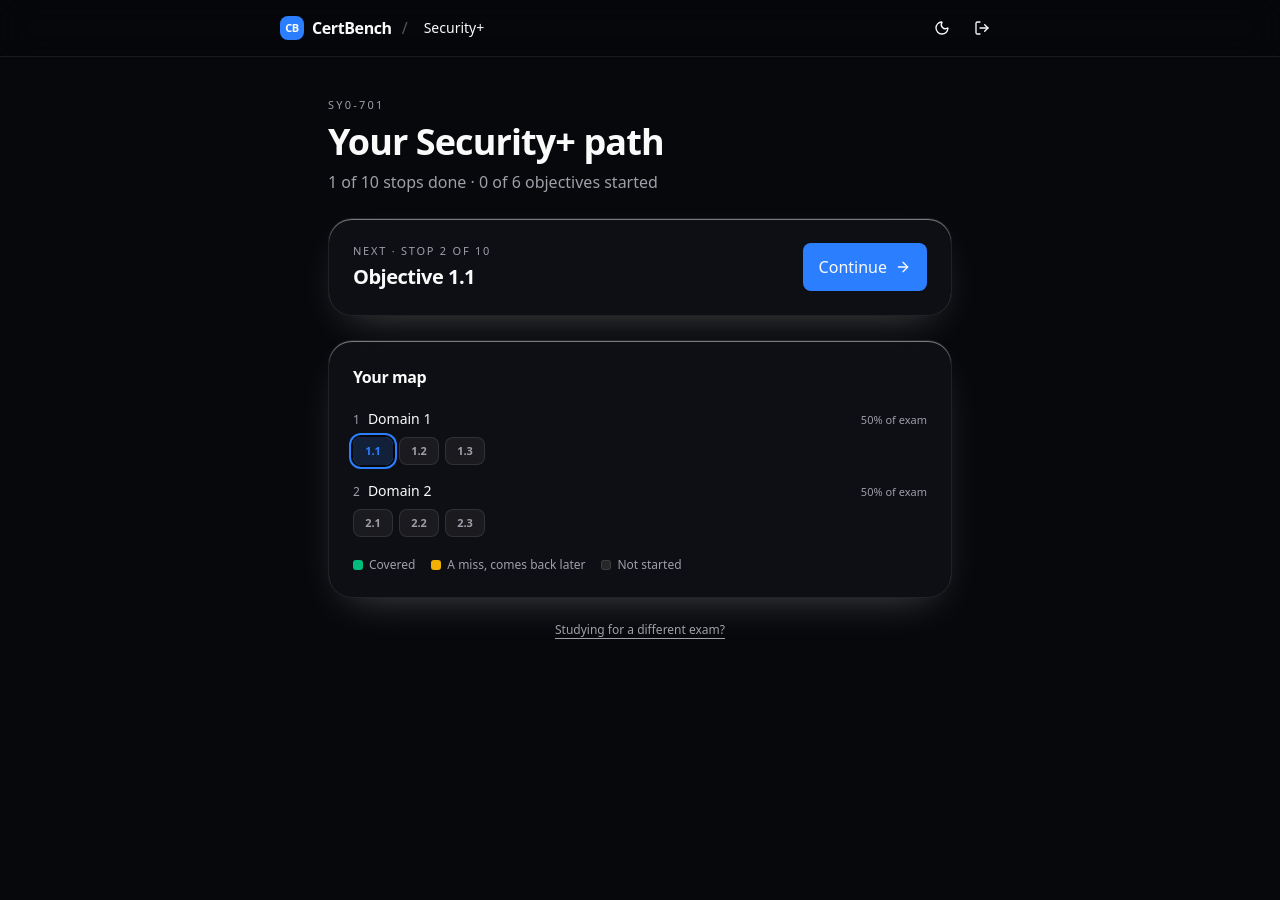
it: a signed-in learner › goes back to the map from the exam name in the header
Click the button "Continue" at [865, 267], box [803,243,927,291]
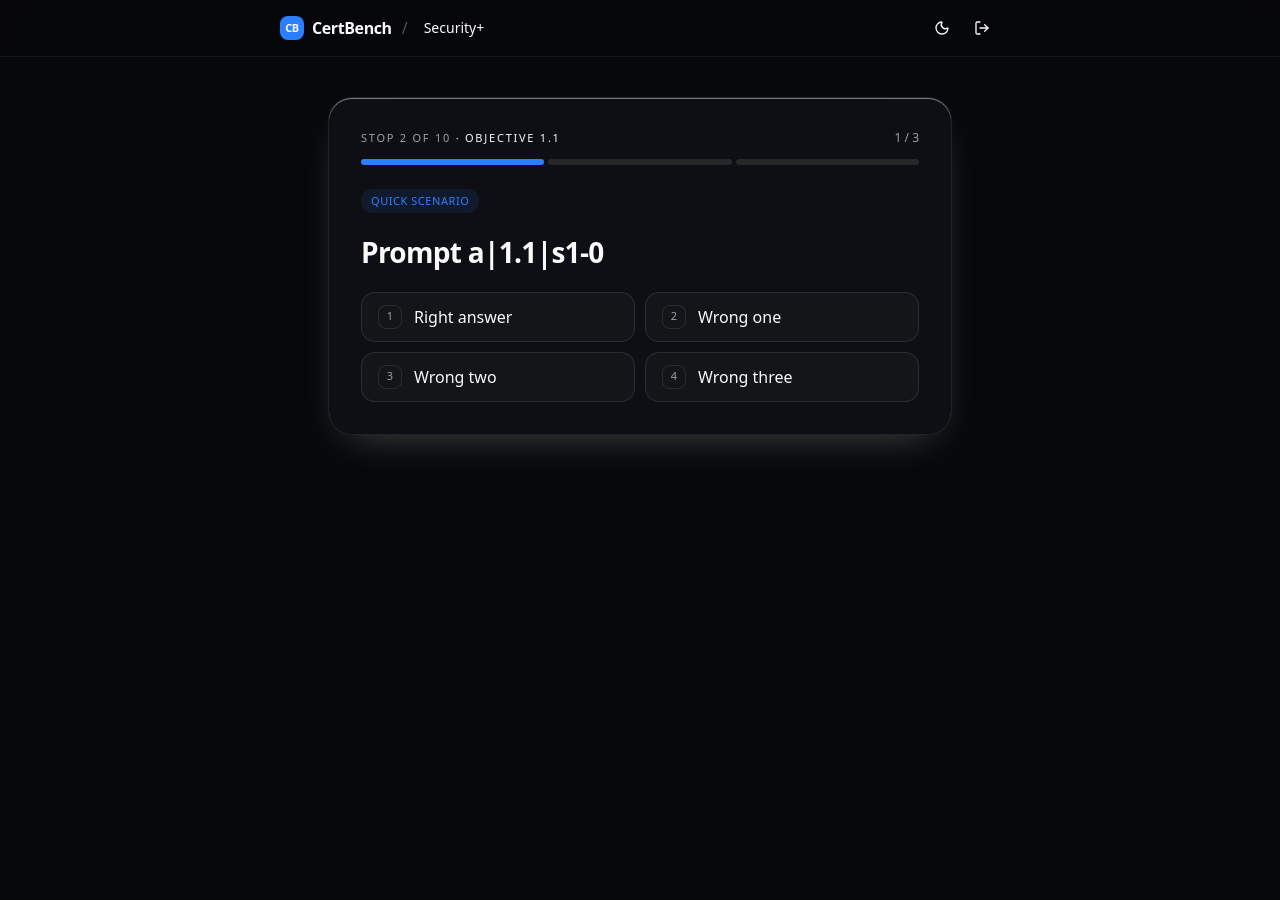
Expected: the heading "Prompt a|1.1|s1-0" is shown, [361,233,604,271]
Click the link "Security+" at [454, 28], box [424,18,484,37]
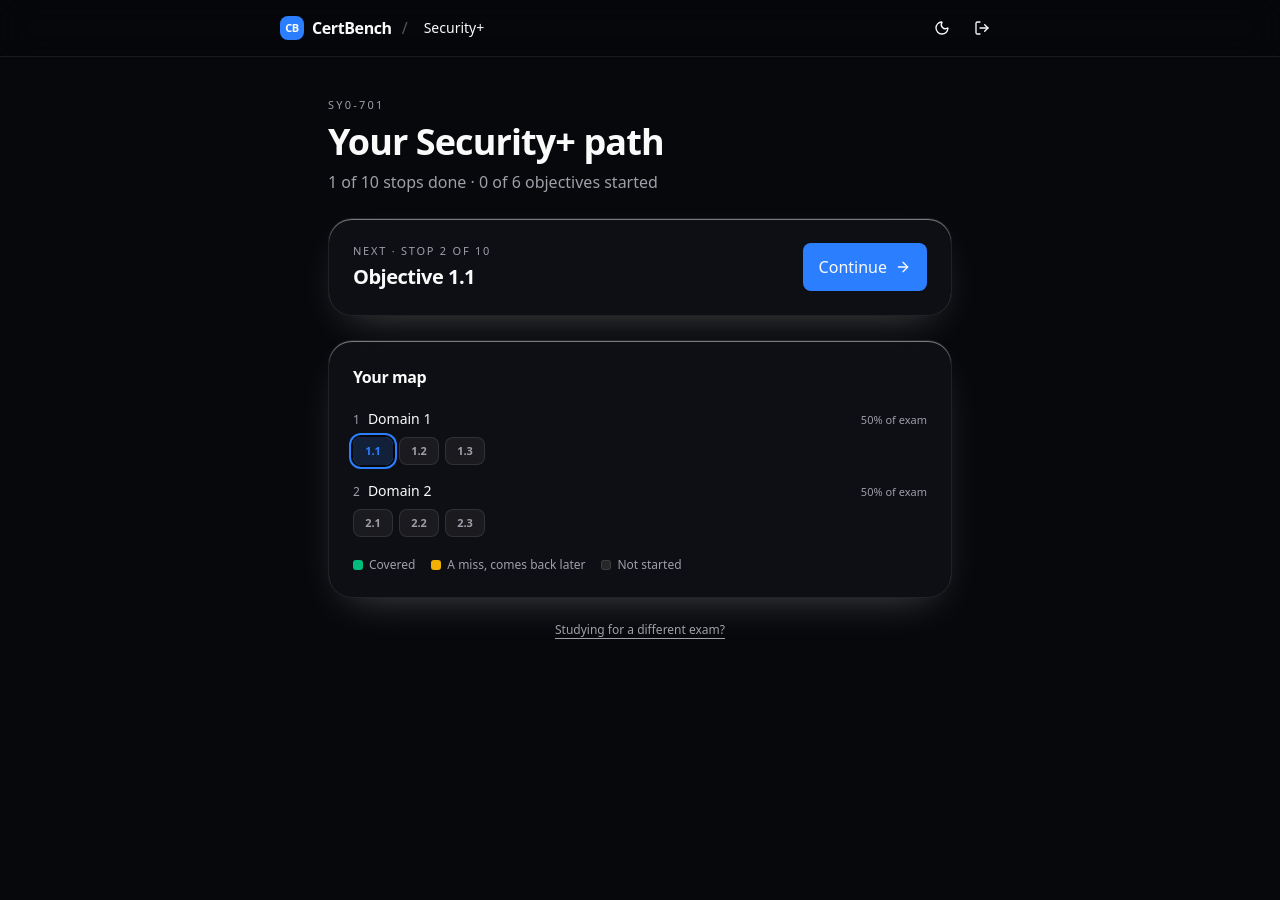
Expected: the text "Prompt a|1.1|s1-0" is not shown
Expected: the heading "Your Security+ path" is shown, [328,116,664,166]
